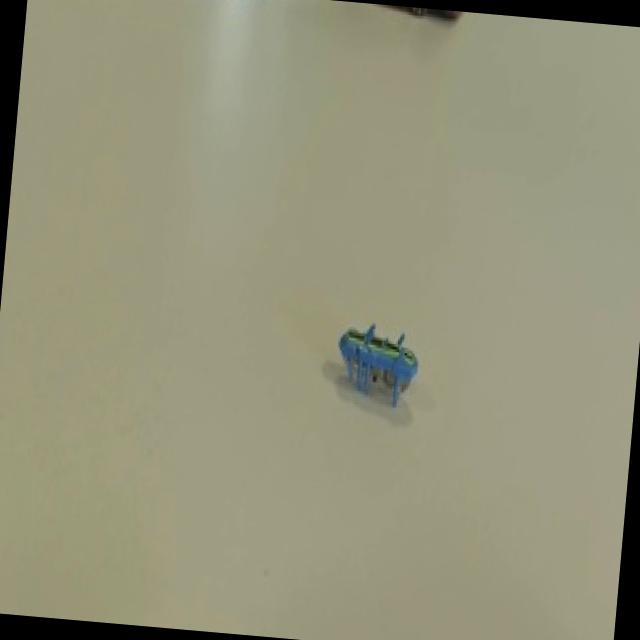3_NanoBug_Celeste: (304, 304, 445, 438)
